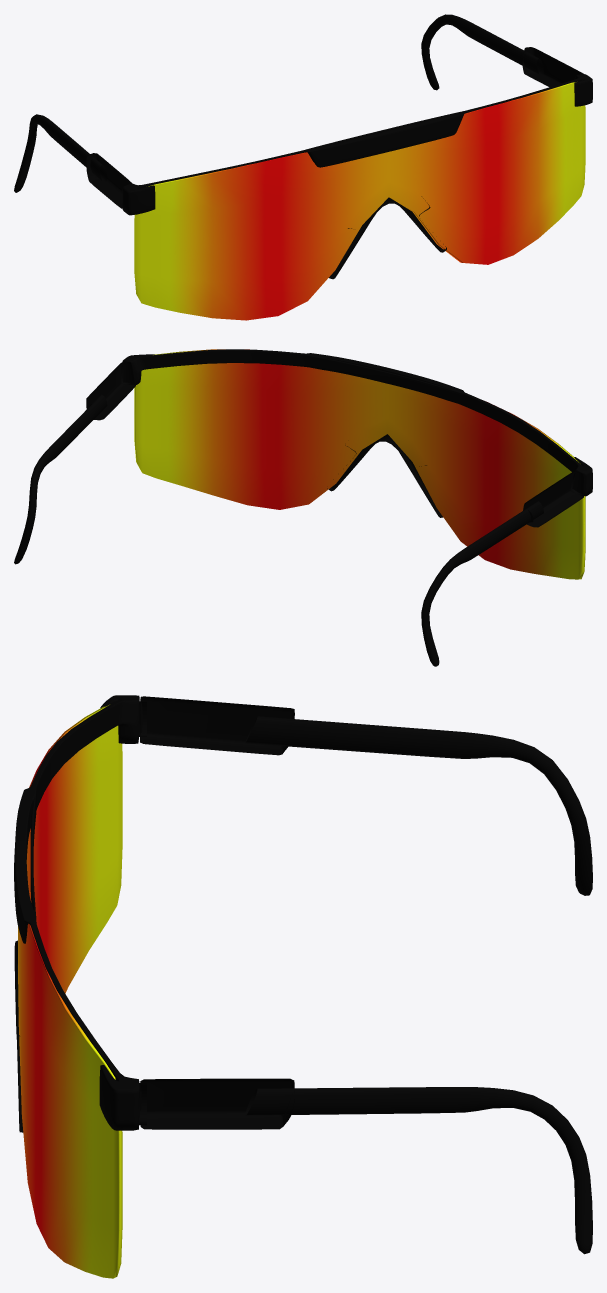
The model's file is Viper-Red.glb.
3 views of the same model, one above another, from view 1: azimuth 30°, elevation 25°; view 2: azimuth 150°, elevation 25°; view 3: azimuth 270°, elevation 25° (orthographic). The views are drawn at different scales.
Visible parts, largest first — view 1: Object_5.004; view 2: Object_5.004; view 3: Object_5.004.
Boxes of the visible parts, bbox=[...] form: Object_5.004: bbox=[14, 14, 592, 320]; Object_5.004: bbox=[14, 349, 592, 666]; Object_5.004: bbox=[14, 695, 592, 1278].
Size of the model in its own units: 0.5484 by 0.1823 by 0.3388.
2 materials, 1 textured.
